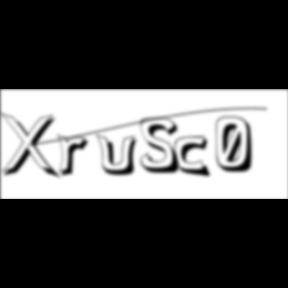0: (216, 115, 260, 174)
S: (140, 117, 186, 176)
X: (0, 112, 64, 182)
c: (175, 136, 215, 180)
r: (57, 134, 95, 180)
u: (96, 132, 144, 178)
